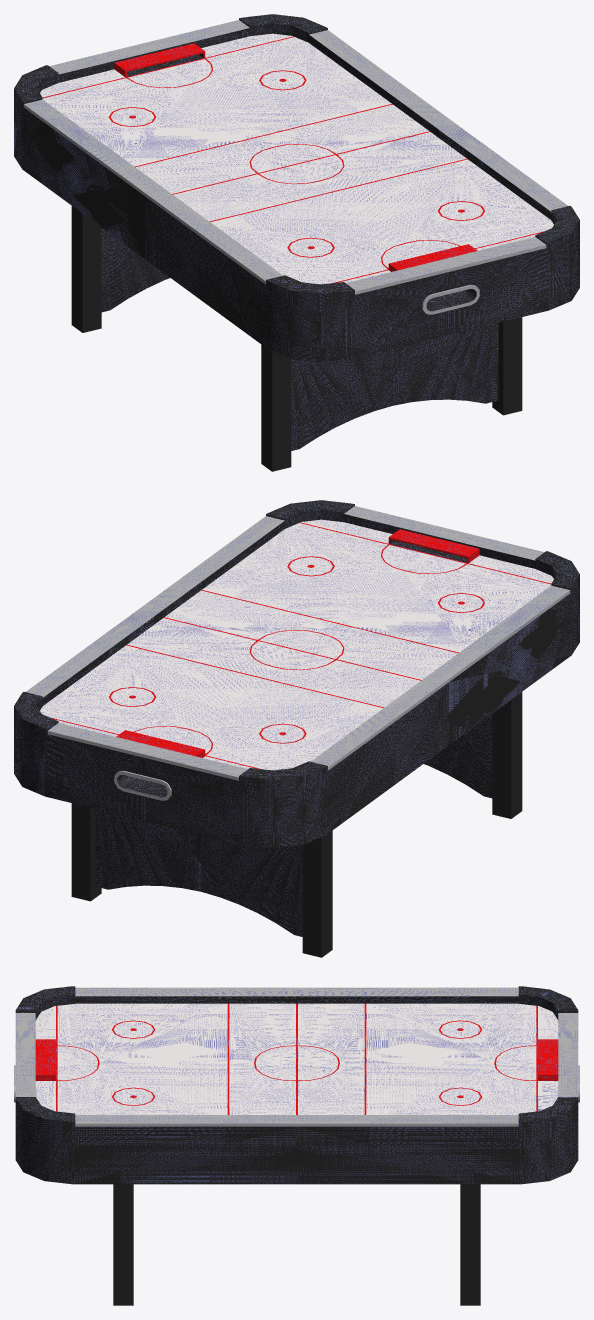
The picture shows the model from 3 angles, top to bottom: view 1: azimuth 30°, elevation 25°; view 2: azimuth 150°, elevation 25°; view 3: azimuth 270°, elevation 25°; orthographic projection. The views are drawn at different scales.
Parts seen in each view (by area): view 1: Air_Hockey_Quarter (×41); view 2: Air_Hockey_Quarter (×41); view 3: Air_Hockey_Quarter (×42).
Part boxes in pixels (bbox=[...]): Air_Hockey_Quarter (×41): bbox=[14, 14, 579, 471]; Air_Hockey_Quarter (×41): bbox=[14, 500, 579, 957]; Air_Hockey_Quarter (×42): bbox=[15, 986, 578, 1305].
Bounding box in the file's own units: 48 × 84.5 × 32.25.
